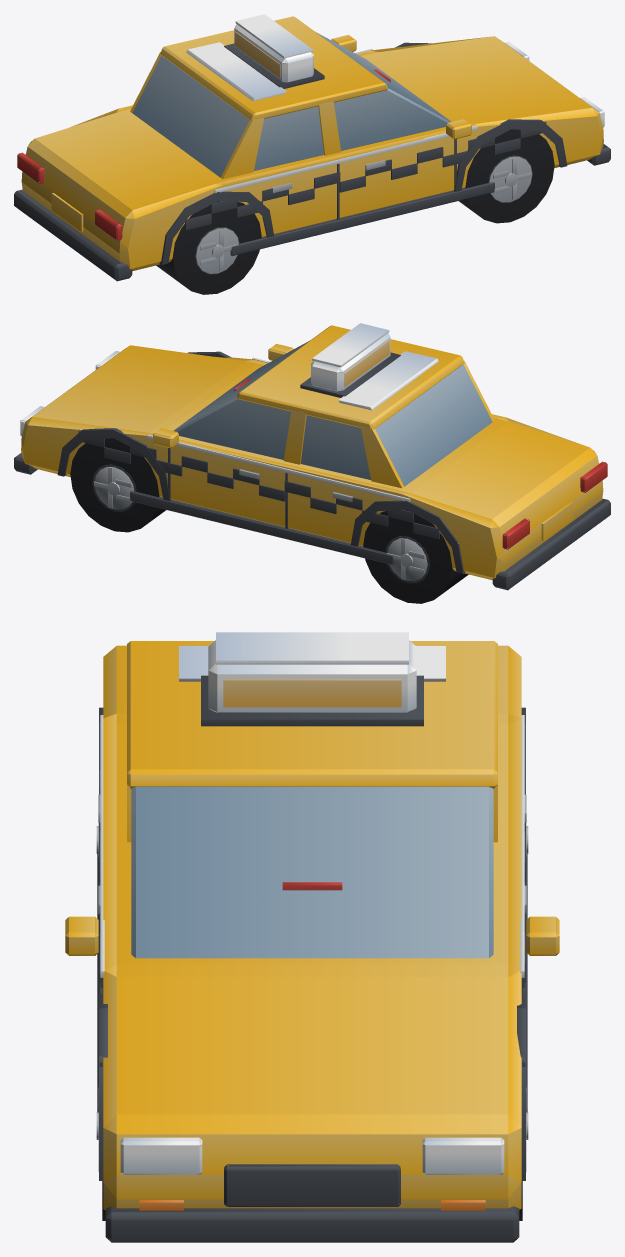
The model's file is ck_taxi.fbx.
3 renders of one model, top to bottom at view 1: azimuth 30°, elevation 25°; view 2: azimuth 150°, elevation 25°; view 3: azimuth 270°, elevation 25°, orthographic. The views are drawn at different scales.
Parts seen in each view (by area): view 1: ck_taxi; view 2: ck_taxi; view 3: ck_taxi.
Boxes of the visible parts, bbox=[...] form: ck_taxi: bbox=[14, 14, 610, 294]; ck_taxi: bbox=[14, 323, 610, 603]; ck_taxi: bbox=[65, 632, 559, 1242].
Size of the model in its own units: 1540 by 573 by 664.
